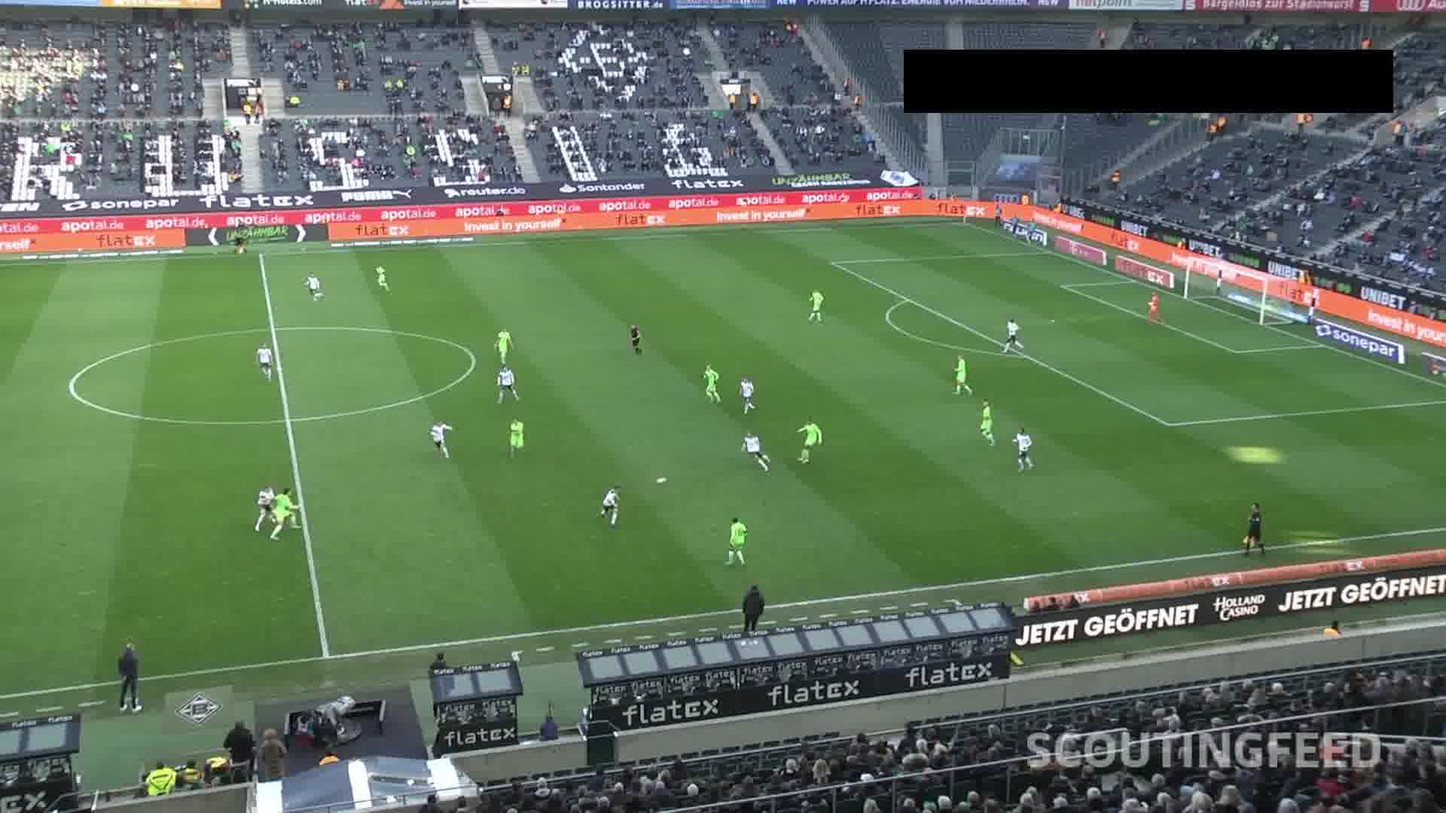ball: (651, 476, 672, 484)
coach_staff: (109, 647, 154, 713), (423, 642, 461, 709), (733, 580, 767, 637)
goalkeeper: (1137, 290, 1171, 326)
player: (271, 484, 306, 539), (791, 417, 826, 468), (1007, 422, 1041, 474), (490, 358, 522, 404), (596, 479, 626, 528), (742, 429, 771, 470), (724, 509, 744, 563), (428, 419, 454, 460), (252, 482, 272, 533), (491, 324, 517, 363), (702, 356, 723, 403), (255, 343, 279, 384), (736, 373, 758, 417), (506, 413, 525, 460), (805, 284, 826, 326), (949, 354, 968, 398), (998, 316, 1020, 354), (370, 261, 395, 292), (300, 274, 329, 300), (978, 401, 995, 444)
referee: (1238, 499, 1275, 555), (626, 319, 648, 355), (230, 227, 252, 258)
